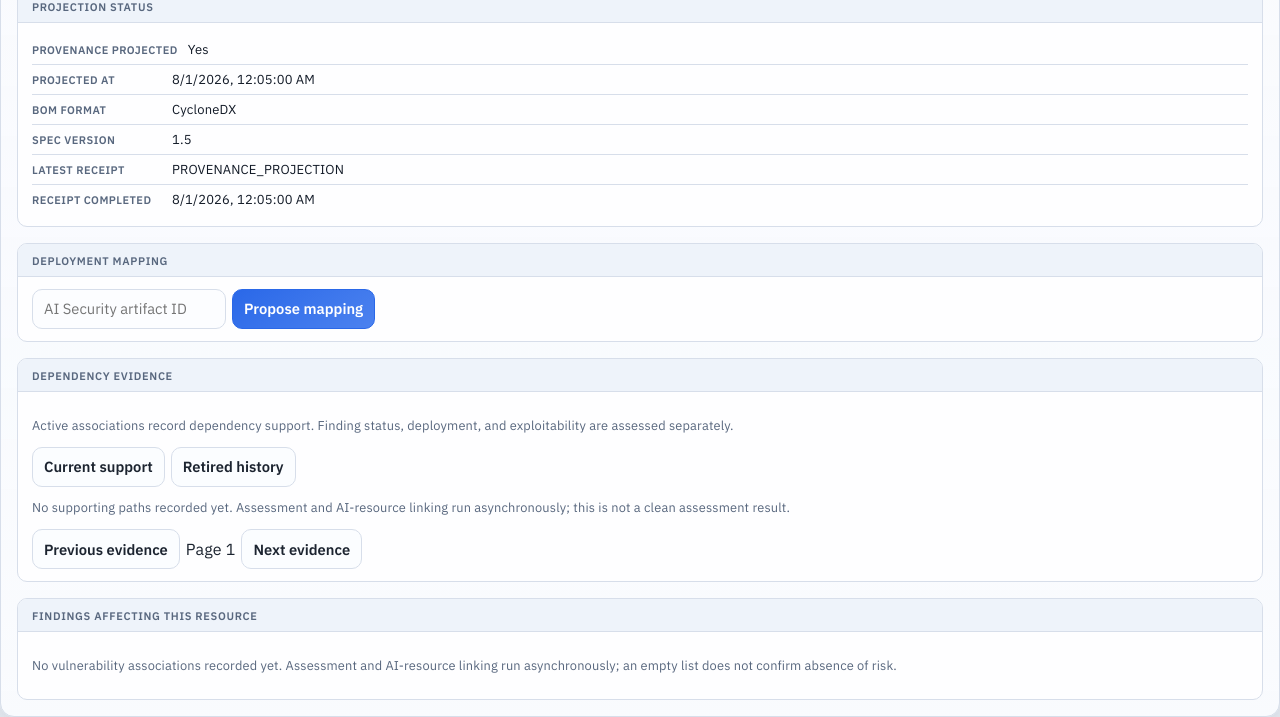
Test: AiBomDeclaredResourceDetailPage › shows evidence loading and paginates without hiding gaps
The width and height of the screenshot is (1280, 717).
(page scrolled)
Click the button "Next evidence" at (302, 549), box [241,529,362,569]
(page scrolled)
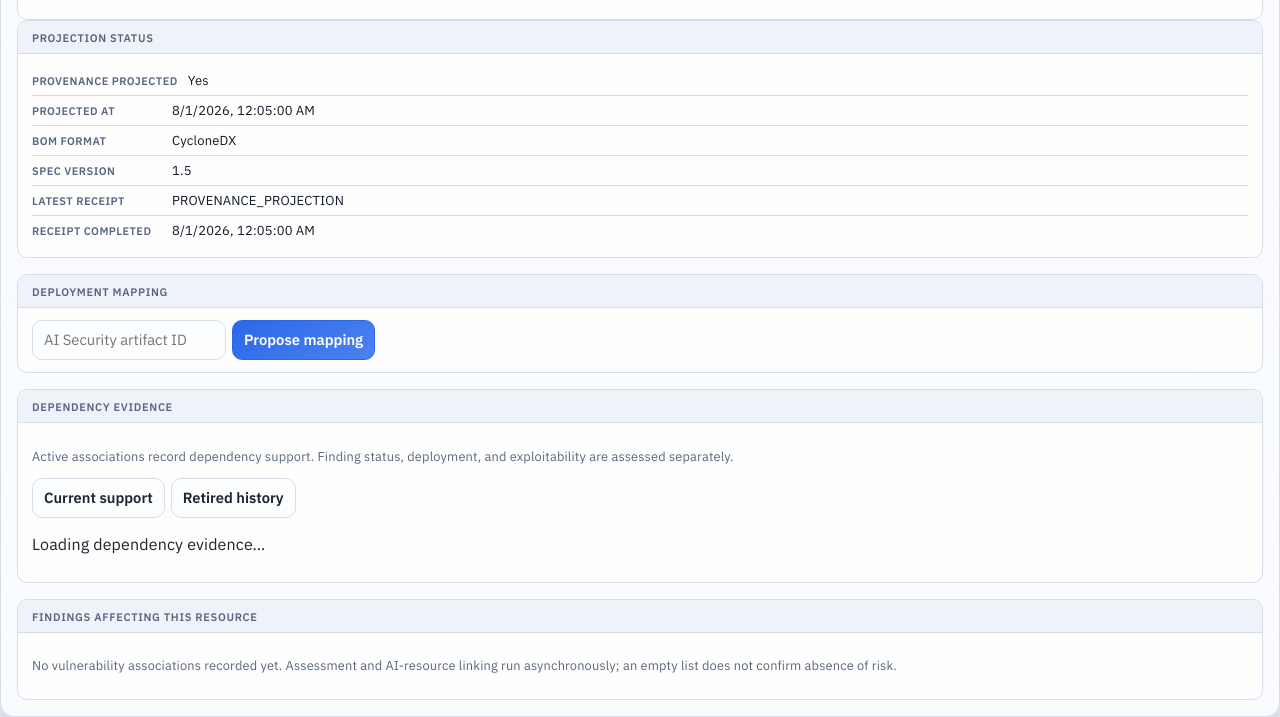
Now the text "Loading dependency evidence…" is shown, box [32,534,266,554]
